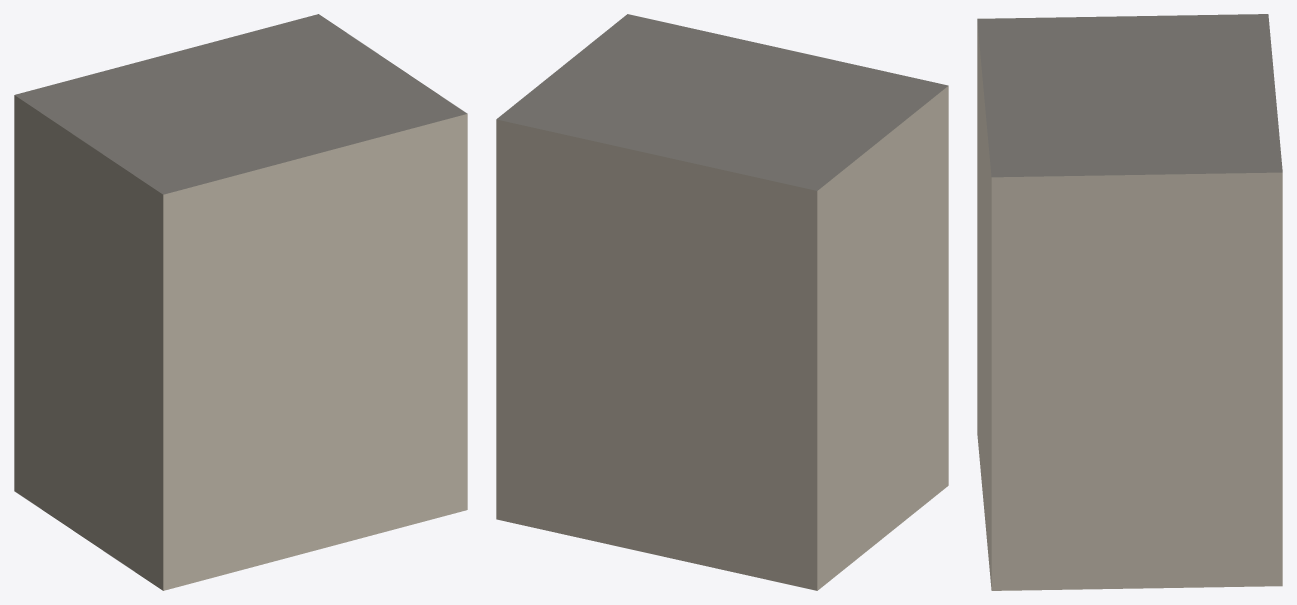
3 views of the same model, side by side, from view 1: azimuth 30°, elevation 25°; view 2: azimuth 150°, elevation 25°; view 3: azimuth 270°, elevation 25° (orthographic). The views are drawn at different scales.
Parts seen in each view (by area): view 1: HP-w1286955413; view 2: HP-w1286955413; view 3: HP-w1286955413.
Boxes of the visible parts, x1,y1,x2,y2 form: HP-w1286955413: [14, 14, 467, 590]; HP-w1286955413: [496, 14, 948, 590]; HP-w1286955413: [977, 14, 1282, 590].
Bounding box in the file's own units: 15.25 × 18 × 12.05.
